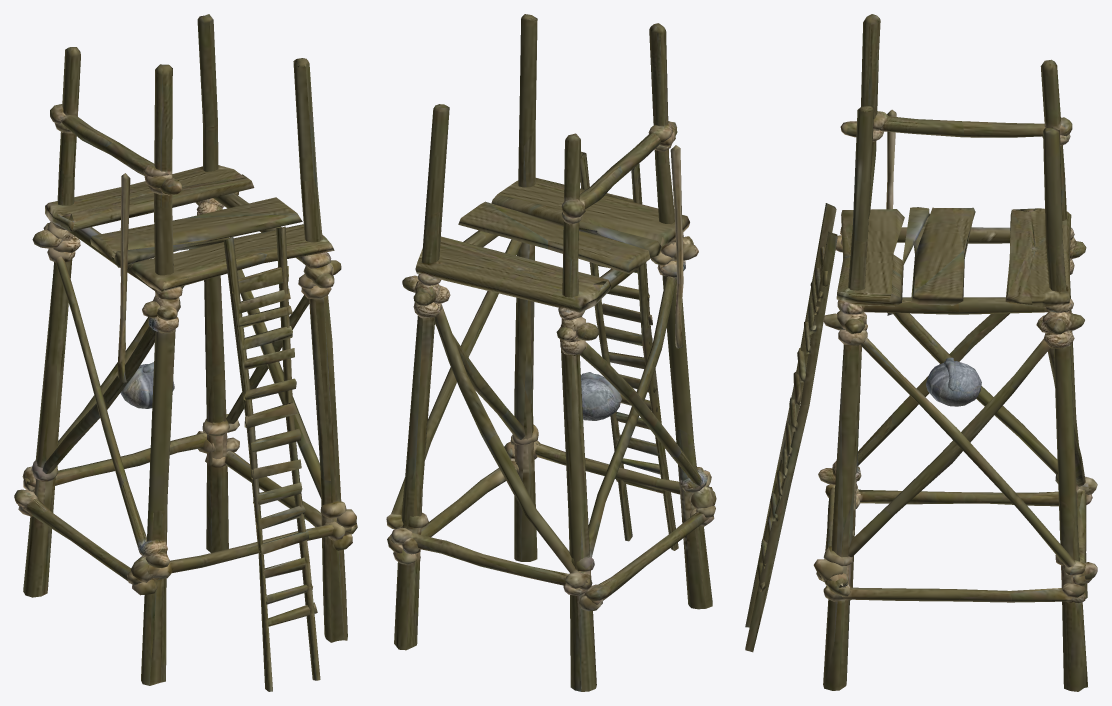
File: av_torre.glb
3 renders of one model, left to right at view 1: azimuth 30°, elevation 25°; view 2: azimuth 150°, elevation 25°; view 3: azimuth 270°, elevation 25°, orthographic. The views are drawn at different scales.
Parts seen in each view (by area): view 1: Mesh_0.002; view 2: Mesh_0.002; view 3: Mesh_0.002.
Part boxes in pixels (x1,y1,x2,y2): Mesh_0.002: (14, 14, 357, 691); Mesh_0.002: (386, 14, 716, 691); Mesh_0.002: (745, 14, 1097, 691).
Bounding box in the file's own units: 0.2246 × 0.5687 × 0.3052.
Materials: 1 (1 with a texture image).
